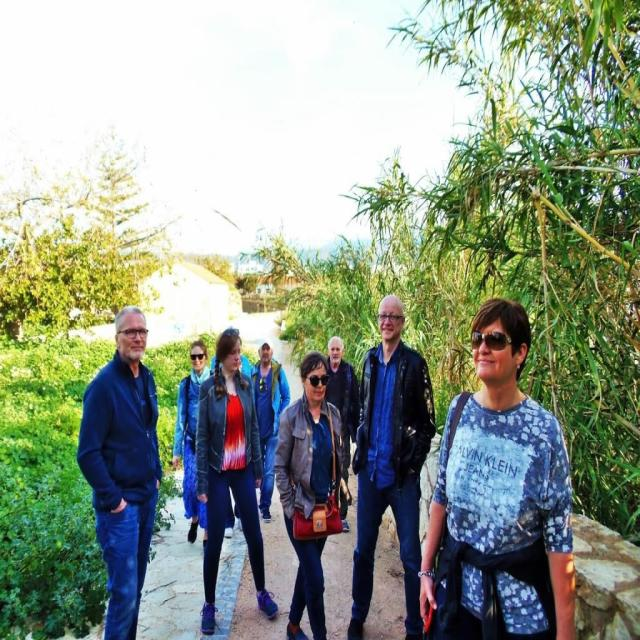body: (415, 293, 579, 639), (344, 291, 440, 639), (75, 303, 166, 639), (192, 326, 280, 637), (272, 348, 347, 640), (208, 330, 255, 541), (242, 339, 292, 526), (172, 338, 215, 550), (322, 334, 361, 504)
